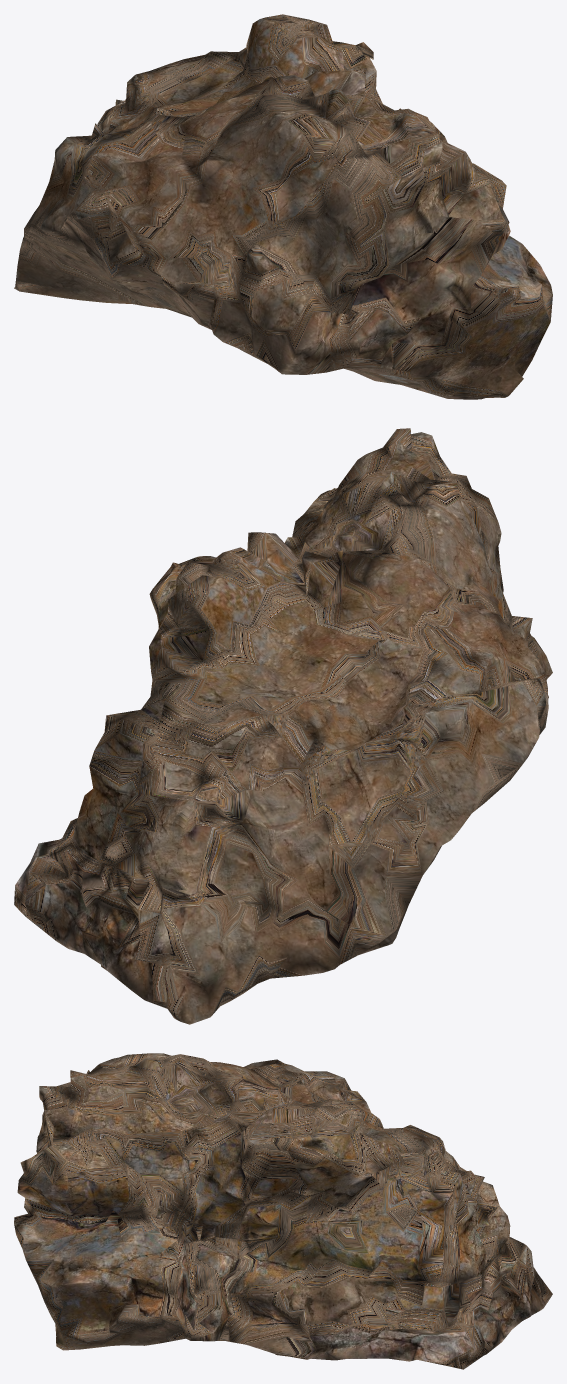
File: boulder_01.gltf
3 views of the same model, one above another, from view 1: azimuth 30°, elevation 25°; view 2: azimuth 150°, elevation 25°; view 3: azimuth 270°, elevation 25° (orthographic). The views are drawn at different scales.
Visible parts, largest first — view 1: boulder_01; view 2: boulder_01; view 3: boulder_01.
Part boxes in pixels (x1,y1,x2,y2): boulder_01: (14,14,552,399); boulder_01: (14,428,552,1024); boulder_01: (14,1053,552,1369).
Bounding box in the file's own units: 1.26 × 0.998 × 1.82.
Materials: 1 (1 with a texture image).
